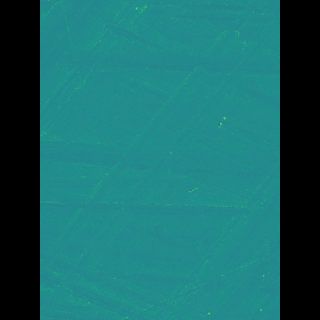Loch: (91, 25, 242, 287)
